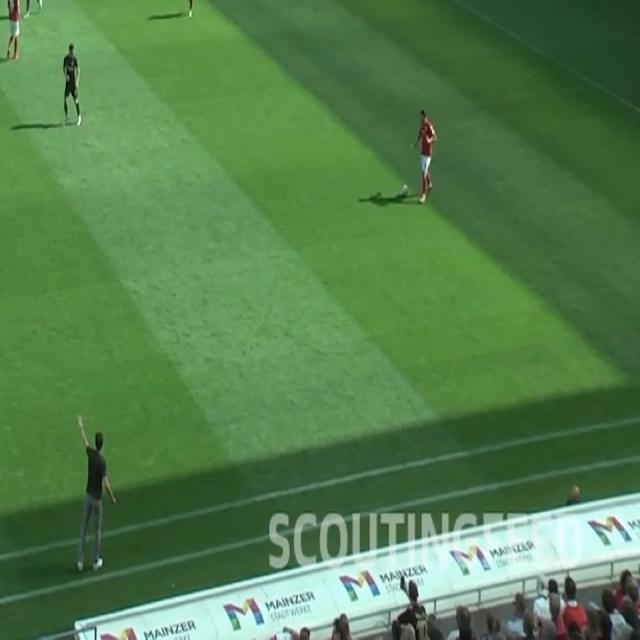ball: (401, 182, 409, 198)
